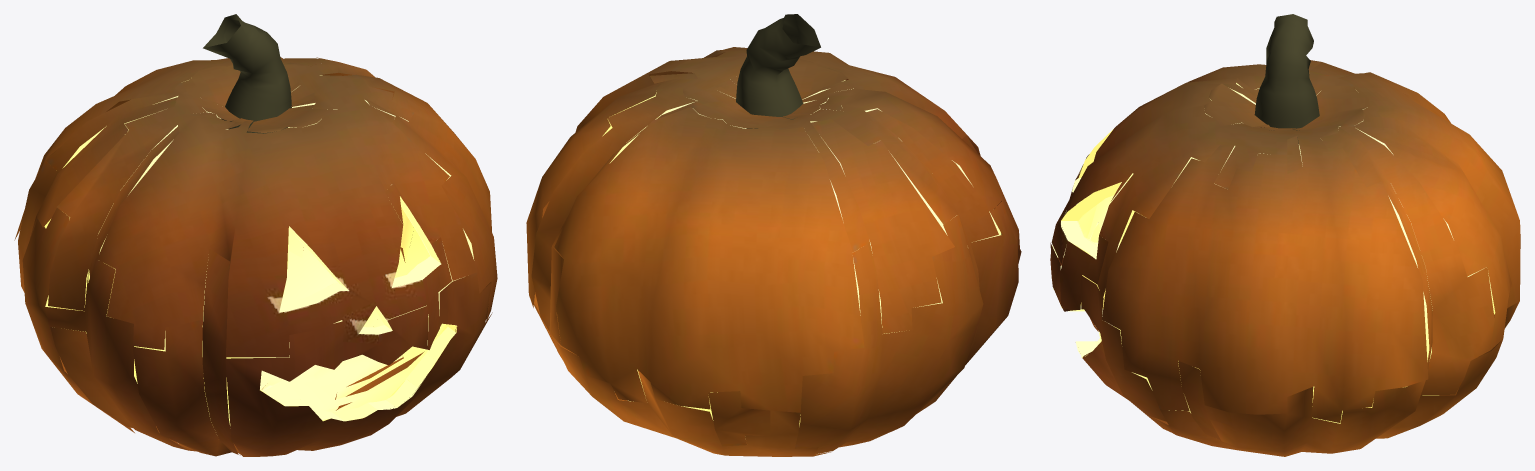
File: jackolantern.glb
3 views of the same model, side by side, from view 1: azimuth 30°, elevation 25°; view 2: azimuth 150°, elevation 25°; view 3: azimuth 270°, elevation 25° (orthographic). The views are drawn at different scales.
Parts seen in each view (by area): view 1: jackolantern, jackolantern_stem; view 2: jackolantern, jackolantern_stem; view 3: jackolantern, jackolantern_stem.
Part boxes in pixels (box(x1,y1,x2,y2)): jackolantern: box(14, 57, 497, 456); jackolantern_stem: box(203, 14, 291, 133); jackolantern: box(526, 47, 1021, 456); jackolantern_stem: box(736, 14, 820, 128); jackolantern: box(1050, 60, 1520, 456); jackolantern_stem: box(1254, 14, 1319, 143).
Bounding box in the file's own units: 0.999 × 0.9175 × 0.9874.
3 materials, 1 textured.
